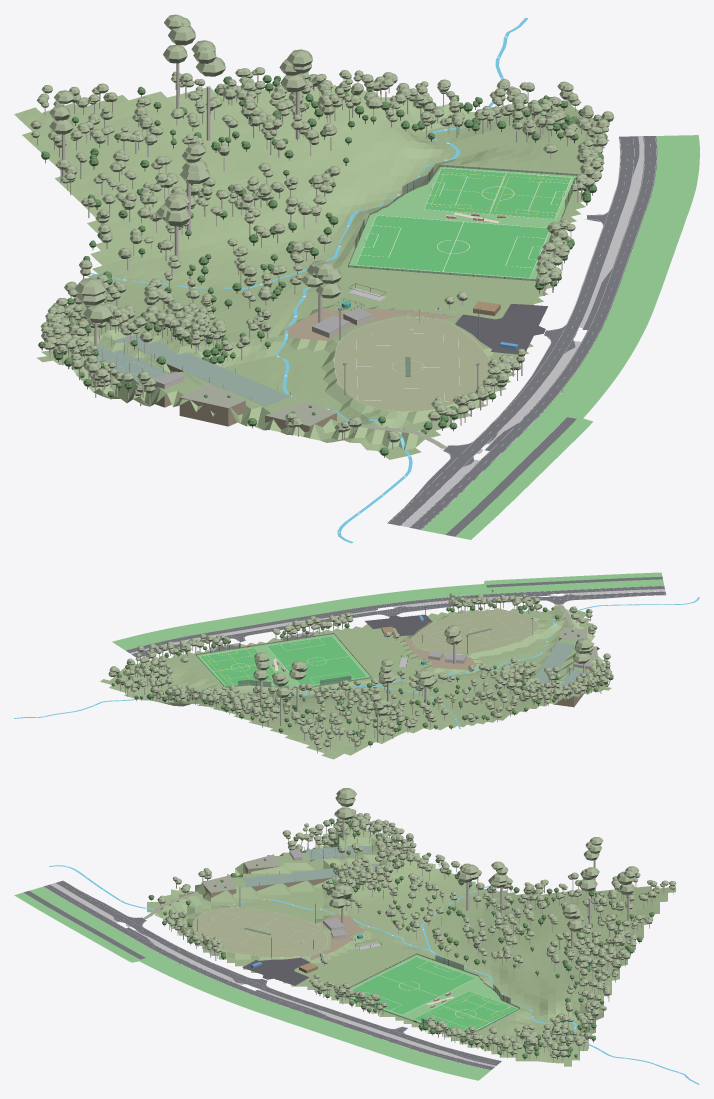
Rendered from KHFR_stage1_winter.glb.
3 renders of one model, top to bottom at view 1: azimuth 30°, elevation 25°; view 2: azimuth 150°, elevation 25°; view 3: azimuth 270°, elevation 25°, orthographic. The views are drawn at different scales.
Parts seen in each view (by area): view 1: Reserve terrain, Bushland forest (euc_can), Road reserve (far verge), Bush planting zones (euc_can), Existing Ground 1 (worn turf), Pitch 3, Swansea Rd NE-bound (surveyed both edges), Giant eucalypts (canopies), Pitch 4, Swansea Rd SW-bound (2 lanes, smooth), Tennis precinct bush retained (euc_can), Bushland forest (wat_can) (+18 smaller); view 2: Reserve terrain, Bushland forest (euc_can), Road reserve (far verge), Bush planting zones (euc_can), Existing Ground 1 (worn turf), Pitch 3, Giant eucalypts (canopies), Swansea Rd SW-bound (2 lanes, smooth), Tennis precinct bush retained (euc_can), Swansea Rd NE-bound (surveyed both edges), Pitch 4, field N flatgrass (+12 smaller); view 3: Reserve terrain, Bushland forest (euc_can), Road reserve (far verge), Bush planting zones (euc_can), Existing Ground 1 (worn turf), Pitch 3, Swansea Rd NE-bound (surveyed both edges), Tennis precinct bush retained (euc_can), Giant eucalypts (canopies), Swansea Rd SW-bound (2 lanes, smooth), Pitch 4, Bushland forest (wat_can) (+12 smaller).
Boxes of the visible parts, x1,y1,x2,y2 form: Reserve terrain: [14, 85, 609, 459]; Bushland forest (euc_can): [30, 71, 400, 442]; Road reserve (far verge): [421, 135, 699, 539]; Bush planting zones (euc_can): [216, 67, 614, 416]; Existing Ground 1 (worn turf): [334, 317, 490, 411]; Pitch 3: [356, 215, 548, 278]; Swansea Rd NE-bound (surveyed both edges): [387, 136, 639, 525]; Giant eucalypts (canopies): [49, 14, 312, 323]; Pitch 4: [424, 168, 570, 218]; Swansea Rd SW-bound (2 lanes, smooth): [409, 136, 657, 529]; Tennis precinct bush retained (euc_can): [40, 296, 233, 387]; Bushland forest (wat_can): [41, 83, 388, 455]; Reserve terrain: [100, 605, 611, 759]; Bushland forest (euc_can): [198, 606, 611, 749]; Road reserve (far verge): [112, 572, 664, 650]; Bush planting zones (euc_can): [108, 593, 540, 716]; Existing Ground 1 (worn turf): [412, 610, 538, 653]; Pitch 3: [267, 636, 366, 685]; Giant eucalypts (canopies): [253, 638, 593, 715]; Swansea Rd SW-bound (2 lanes, smooth): [126, 586, 664, 652]; Tennis precinct bush retained (euc_can): [495, 661, 613, 703]; Swansea Rd NE-bound (surveyed both edges): [131, 591, 666, 657]; Pitch 4: [200, 648, 275, 686]; field N flatgrass: [196, 634, 371, 687]; Reserve terrain: [147, 824, 675, 1066]; Bushland forest (euc_can): [157, 817, 676, 980]; Road reserve (far verge): [14, 886, 490, 1080]; Bush planting zones (euc_can): [166, 909, 637, 1057]; Existing Ground 1 (worn turf): [192, 907, 327, 957]; Pitch 3: [352, 957, 475, 1014]; Swansea Rd NE-bound (surveyed both edges): [56, 880, 501, 1065]; Tennis precinct bush retained (euc_can): [295, 809, 416, 888]; Giant eucalypts (canopies): [335, 788, 639, 931]; Swansea Rd SW-bound (2 lanes, smooth): [43, 884, 494, 1069]; Pitch 4: [414, 991, 517, 1031]; Bushland forest (wat_can): [148, 820, 654, 979].
Bounding box in the file's own units: 495 × 86.35 × 599.
